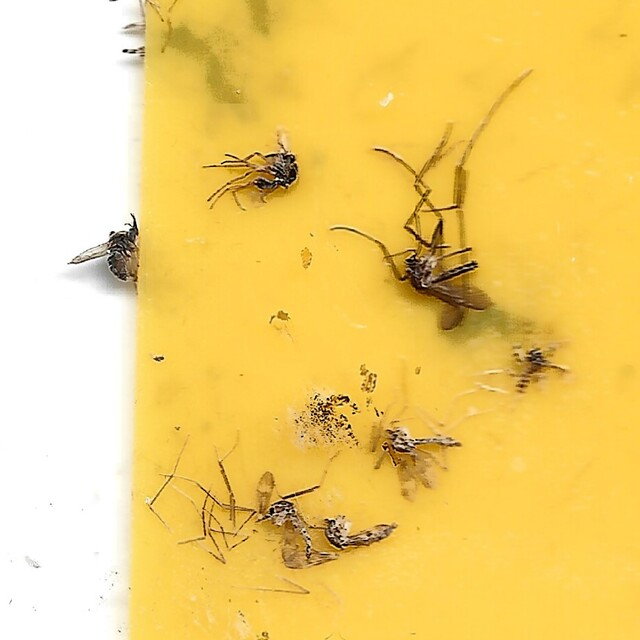Brachycera: (203, 128, 299, 210), (69, 210, 142, 291)
Nematocera: (332, 69, 533, 336), (253, 470, 335, 571), (378, 420, 464, 504), (323, 507, 401, 558), (507, 342, 571, 402)
